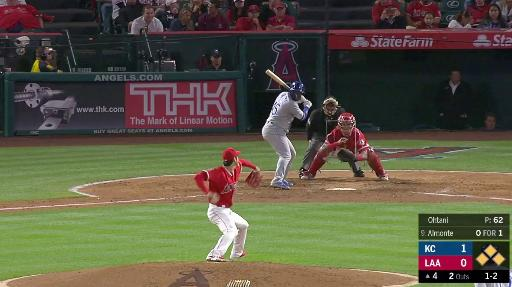pitcher: (195, 146, 264, 265)
